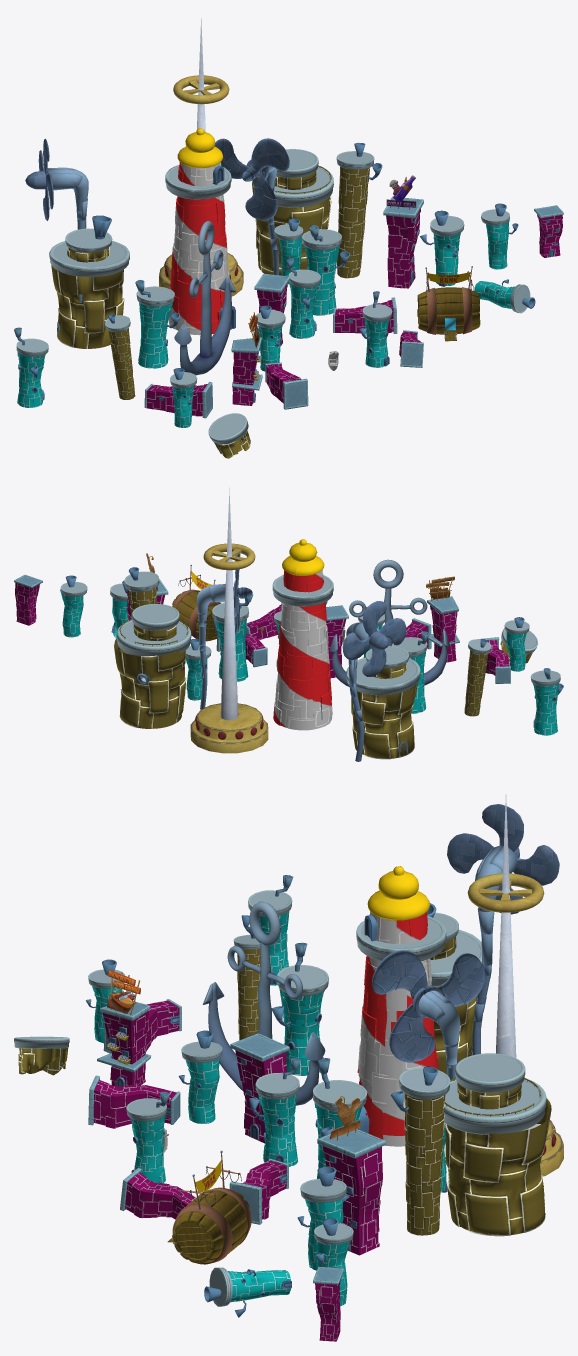
Rendered from sbfbbr_-_downtown_bikini_bottom_bg.glb.
3 views of the same model, one above another, from view 1: azimuth 30°, elevation 25°; view 2: azimuth 150°, elevation 25°; view 3: azimuth 270°, elevation 25° (orthographic). The views are drawn at different scales.
Visible parts, largest first — view 1: skfb_offset; view 2: skfb_offset; view 3: skfb_offset.
Boxes of the visible parts, x1=… form: skfb_offset: x1=14, y1=18, x2=563, y2=458; skfb_offset: x1=14, y1=487, x2=563, y2=761; skfb_offset: x1=14, y1=794, x2=563, y2=1341.
Bounding box in the file's own units: 29909 × 14242 × 18553.
Materials: 25 (20 with a texture image).
